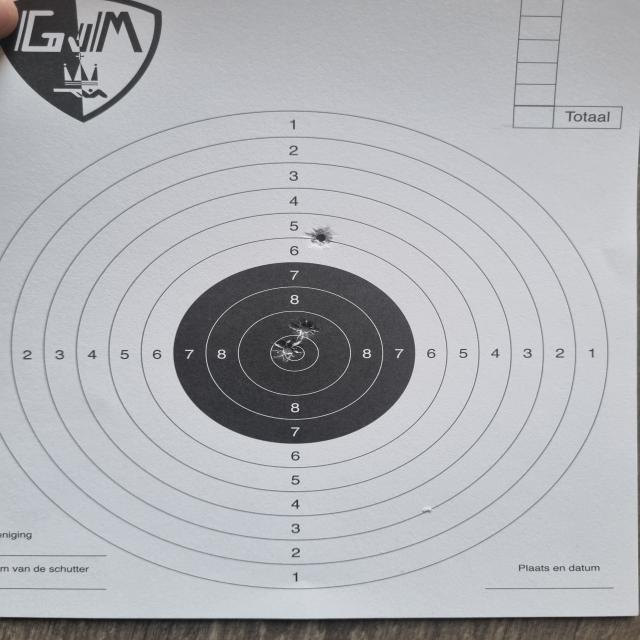10: (270, 338, 303, 362), (288, 319, 320, 341)
6: (306, 226, 334, 246)
Target: (0, 110, 610, 585)
black_contour: (175, 264, 418, 443)
